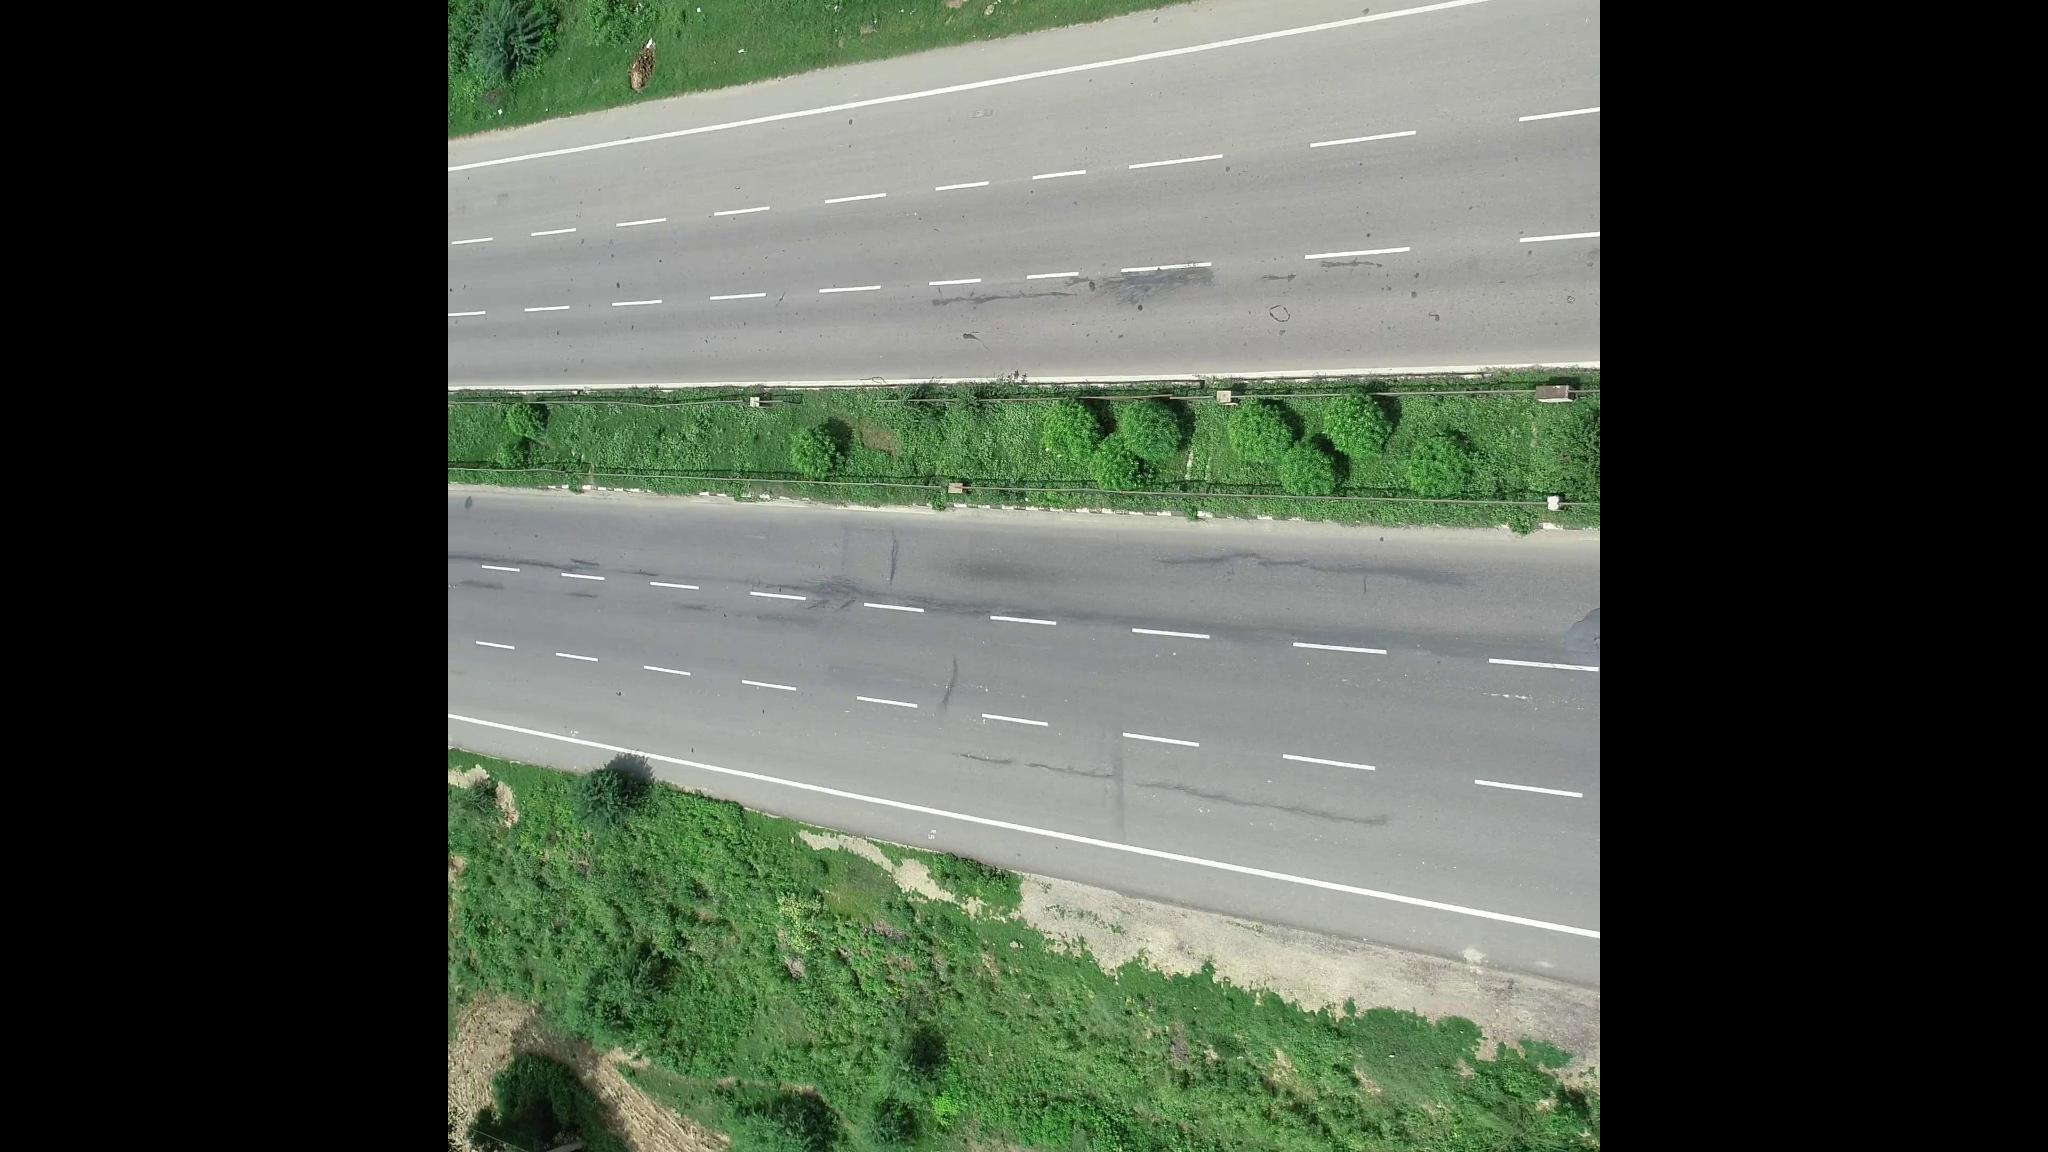Cracks: (965, 736, 1384, 824), (449, 537, 845, 596), (1165, 525, 1461, 592), (942, 279, 1189, 314)
Potholes: (1257, 293, 1321, 336)
